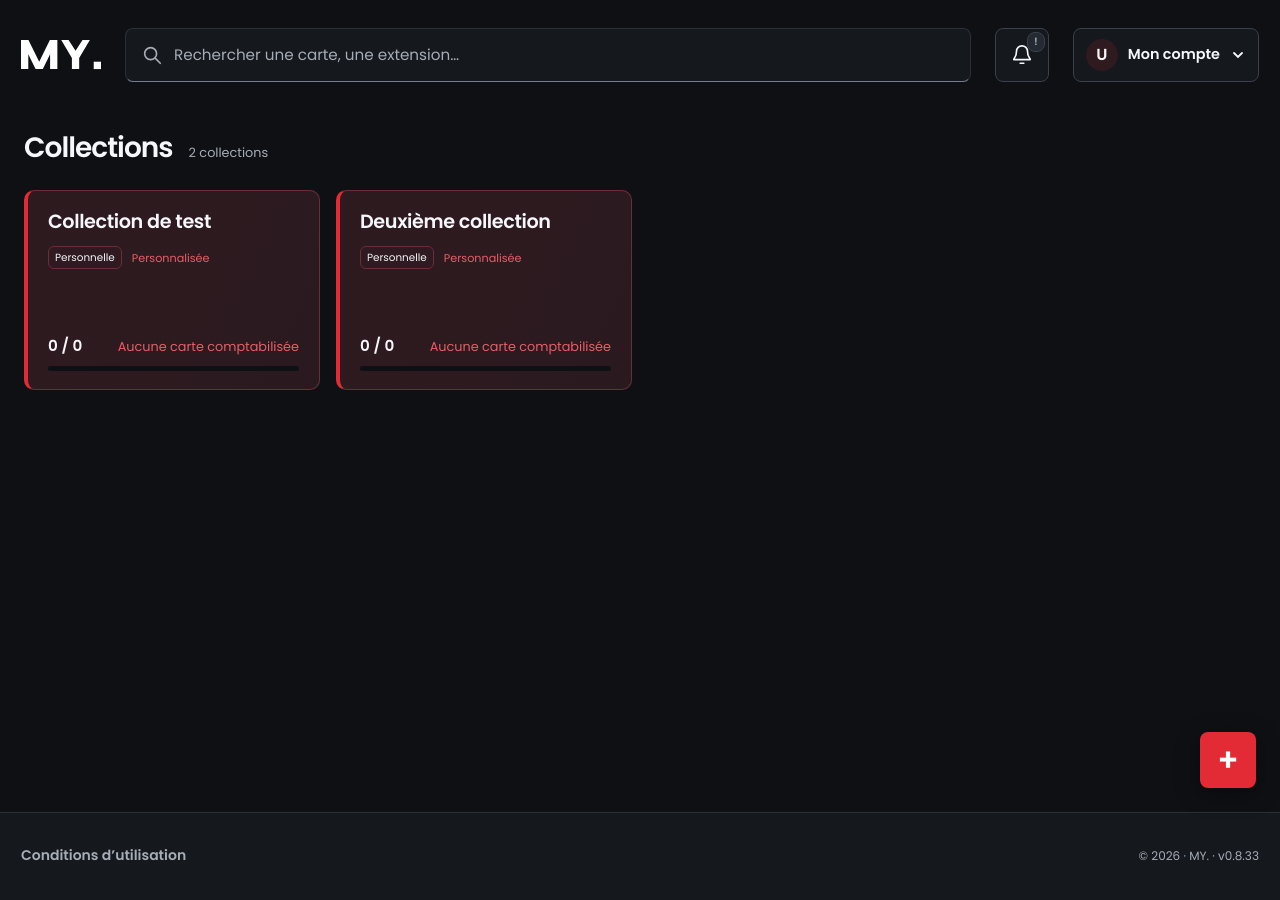
Test case: naviguer entre deux collections ne réutilise pas la donnée de la première
Click the link "Collection de test": (130, 222) [24,190,320,390]
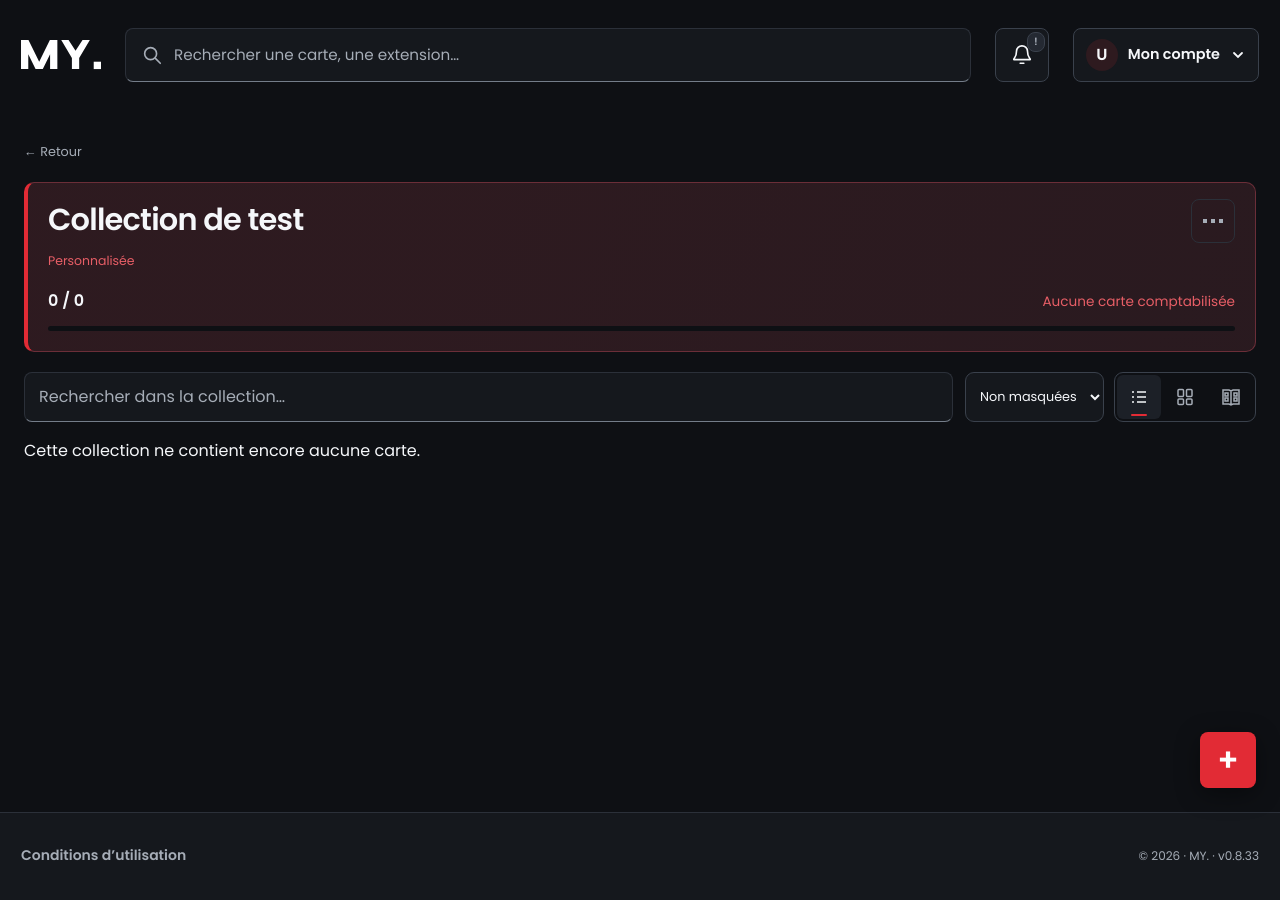
Now the heading "Collection de test" is shown, box [48,198,303,241]
Click the button "← Retour": (53, 152) [24,130,82,174]
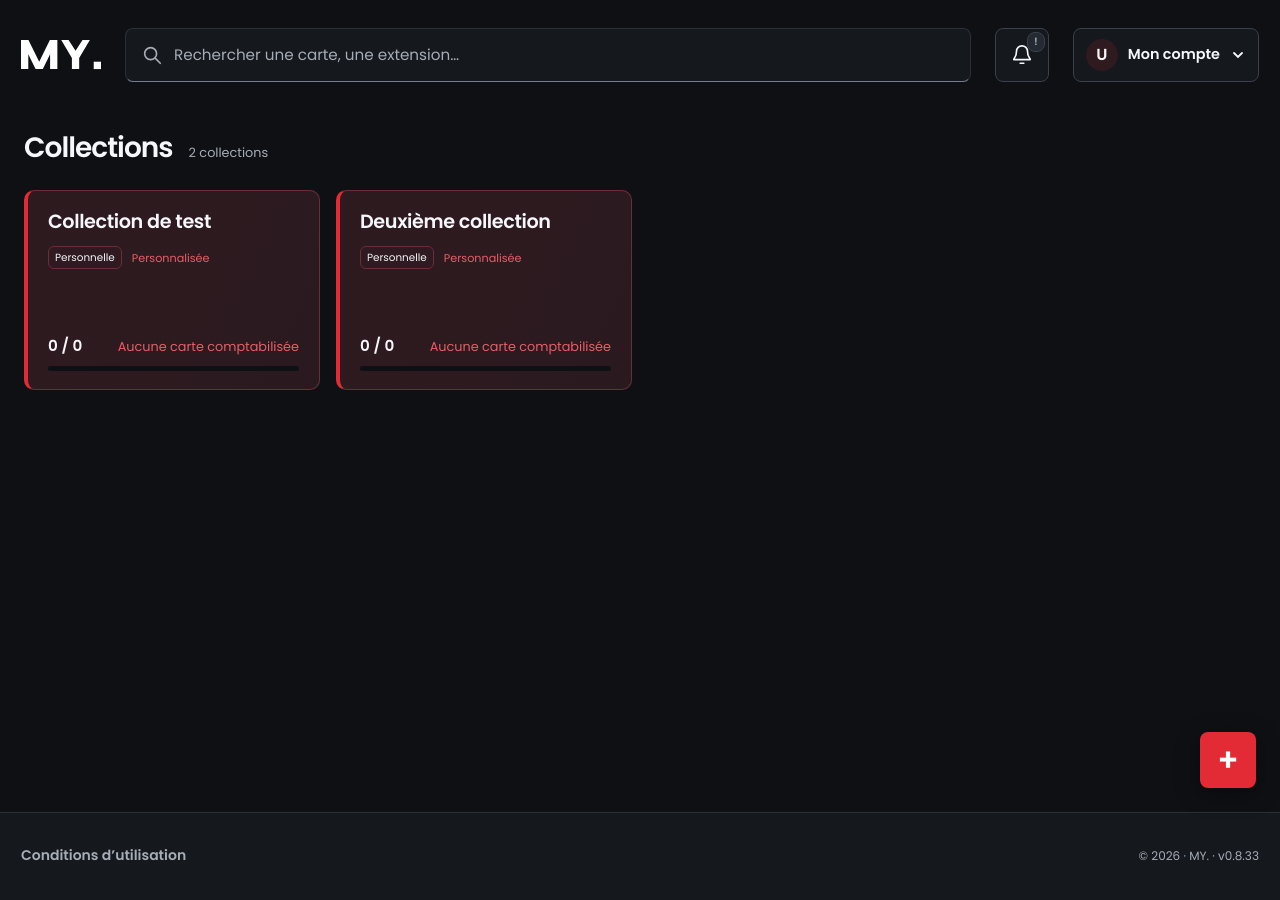
Click the link "Deuxième collection": (455, 222) [336,190,632,390]
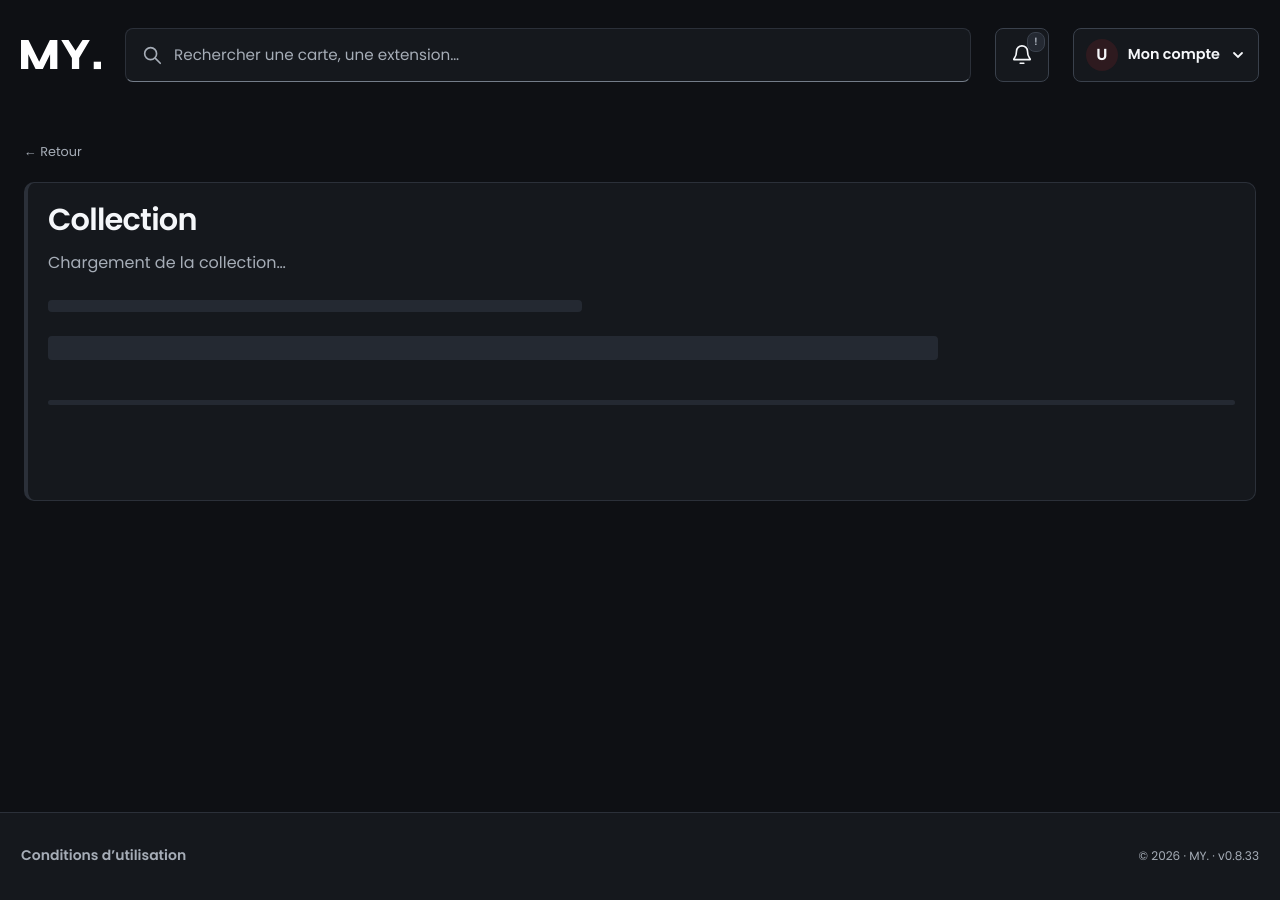
Now the text "Chargement de la collection…" is shown, box [48,251,286,274]
Now the link "Collection de test" is gone
